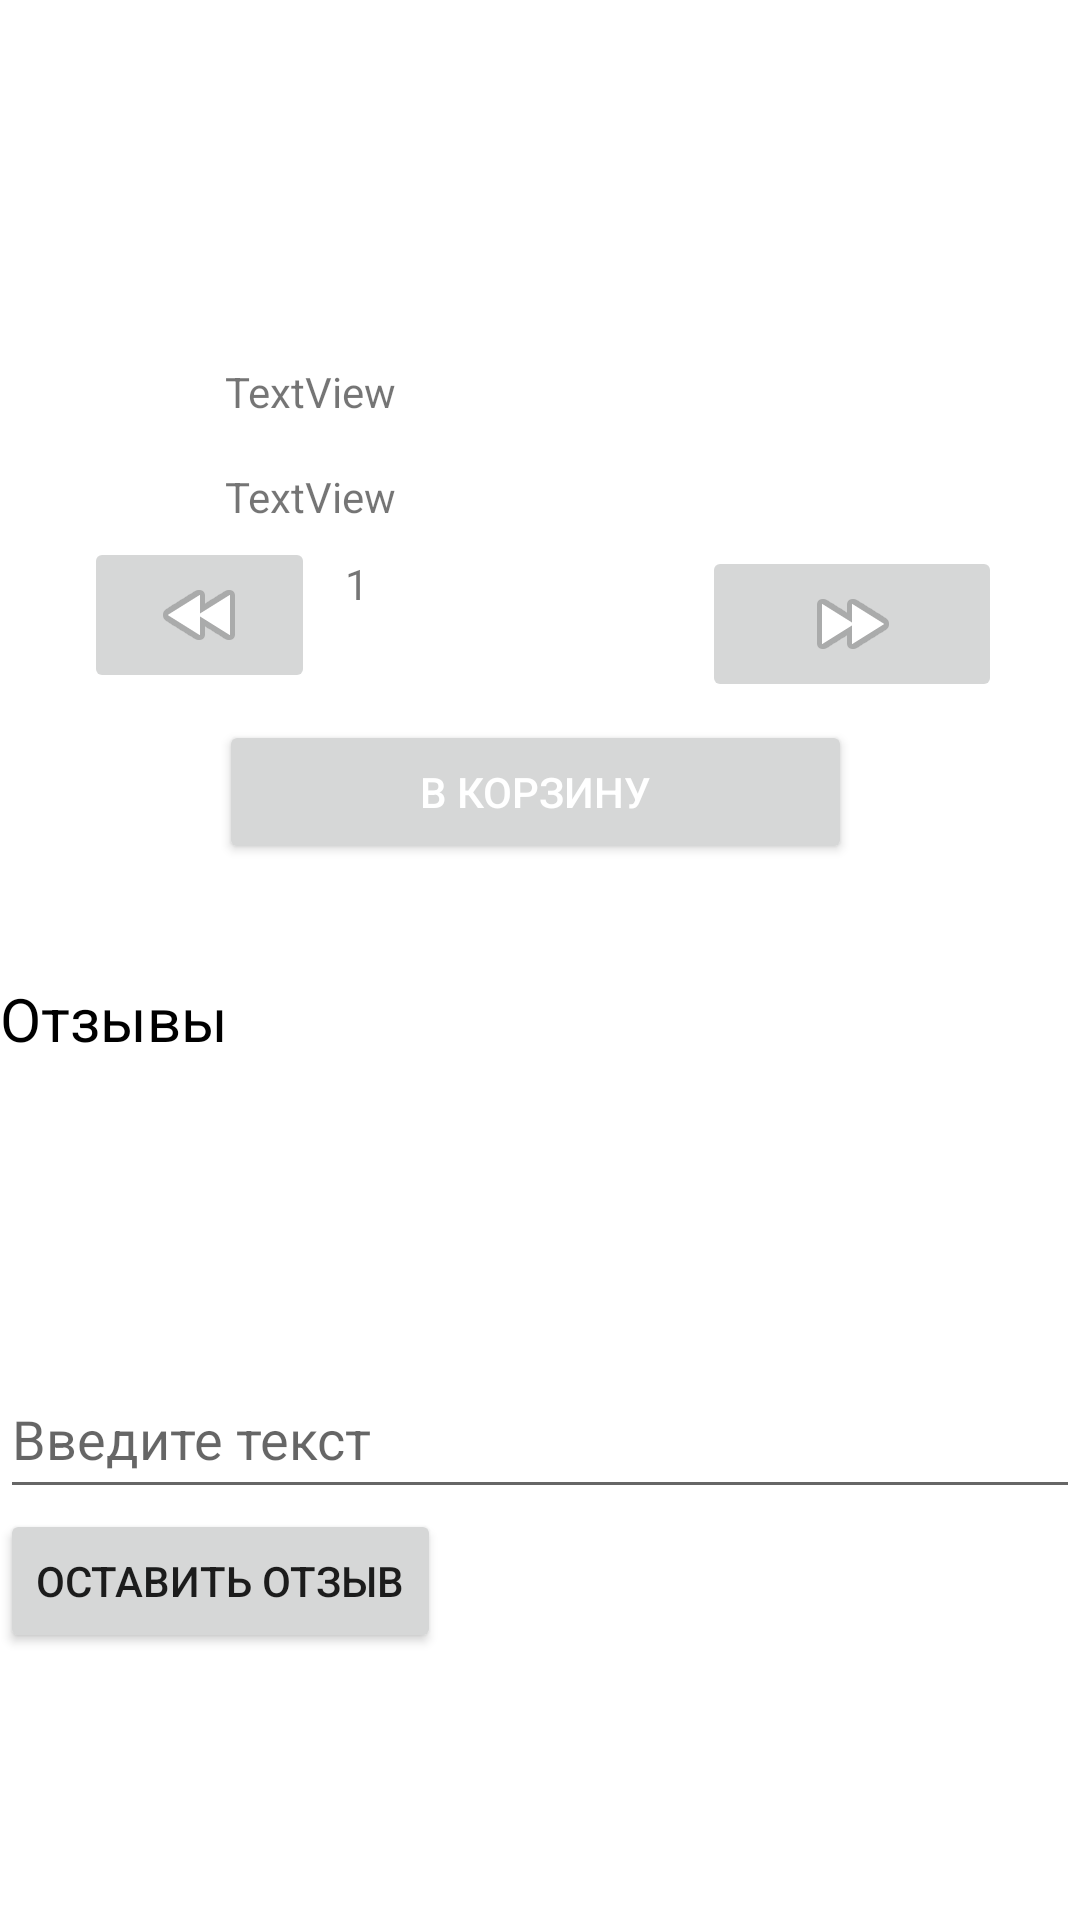

Icons on this 1080*1920 Android screen, each with the point to tap as (x,y):
rew: (199,615)
